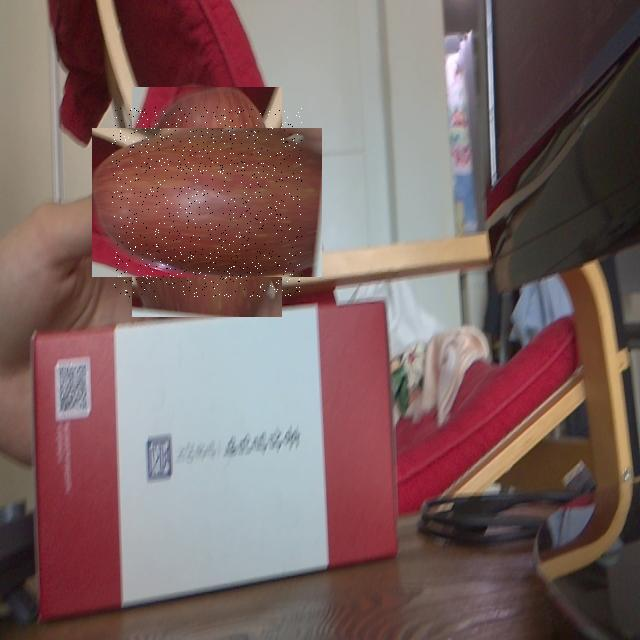apple: (112, 107, 302, 297)
